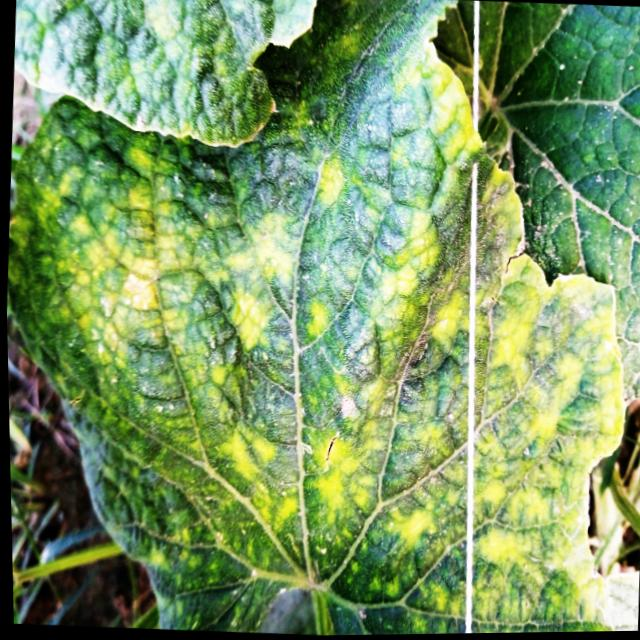Downy-Mildew: (7, 0, 624, 636), (14, 0, 319, 148)
